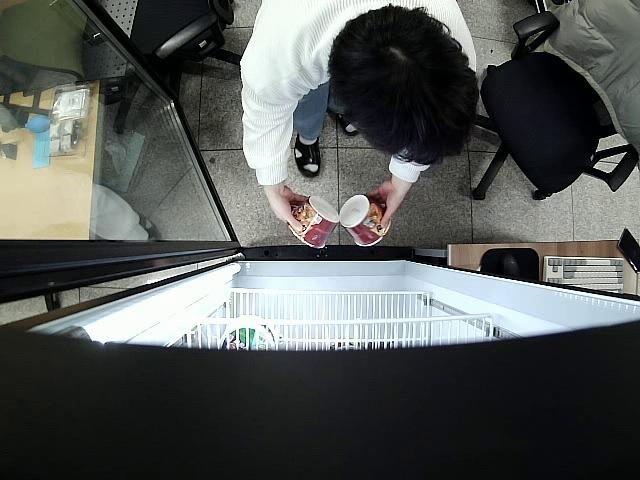05_nuguri_L: (285, 197, 339, 250), (340, 196, 390, 247)
